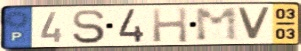4: (117, 8, 147, 45), (39, 11, 65, 44)
H: (150, 6, 190, 44)
M: (193, 6, 241, 43)
S: (71, 8, 108, 45)
V: (235, 6, 274, 42)
